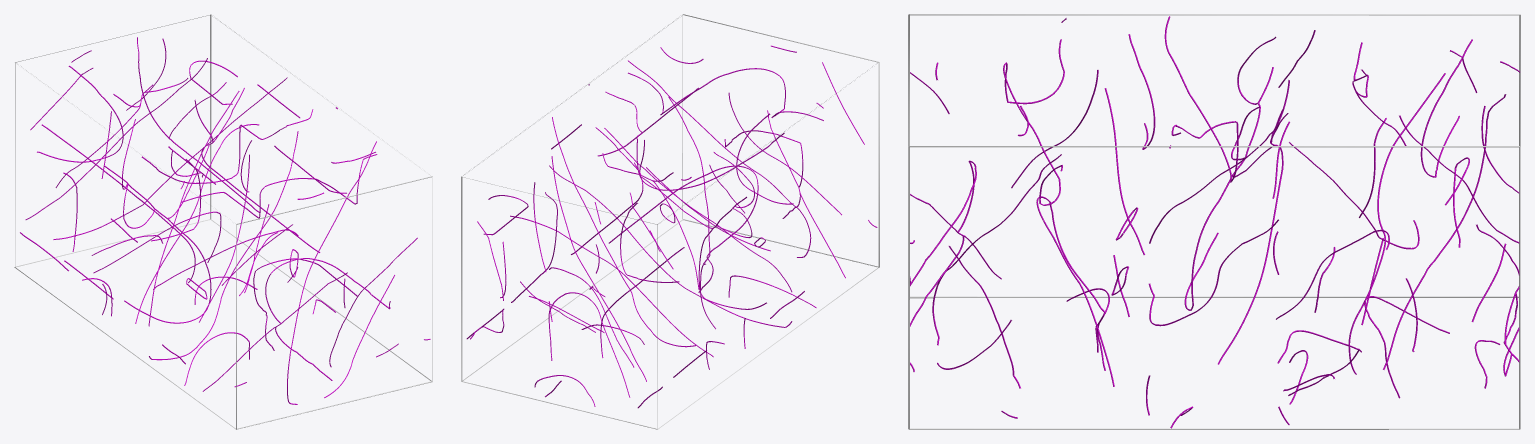
3 views of the same model, side by side, from view 1: azimuth 30°, elevation 25°; view 2: azimuth 150°, elevation 25°; view 3: azimuth 270°, elevation 25° (orthographic). The views are drawn at different scales.
Visible parts, largest first — view 1: Shape_IndexedLineSet.001, Shape_IndexedLineSet; view 2: Shape_IndexedLineSet.001, Shape_IndexedLineSet; view 3: Shape_IndexedLineSet.001, Shape_IndexedLineSet.
Part boxes in pixels (left/top/right/bottom): Shape_IndexedLineSet.001: left=20, top=37, right=430, bottom=404; Shape_IndexedLineSet: left=14, top=14, right=432, bottom=429; Shape_IndexedLineSet.001: left=466, top=45, right=877, bottom=408; Shape_IndexedLineSet: left=461, top=14, right=879, bottom=429; Shape_IndexedLineSet.001: left=910, top=16, right=1519, bottom=428; Shape_IndexedLineSet: left=908, top=14, right=1520, bottom=429.
Size of the model in its own units: 235 by 235 by 459.
